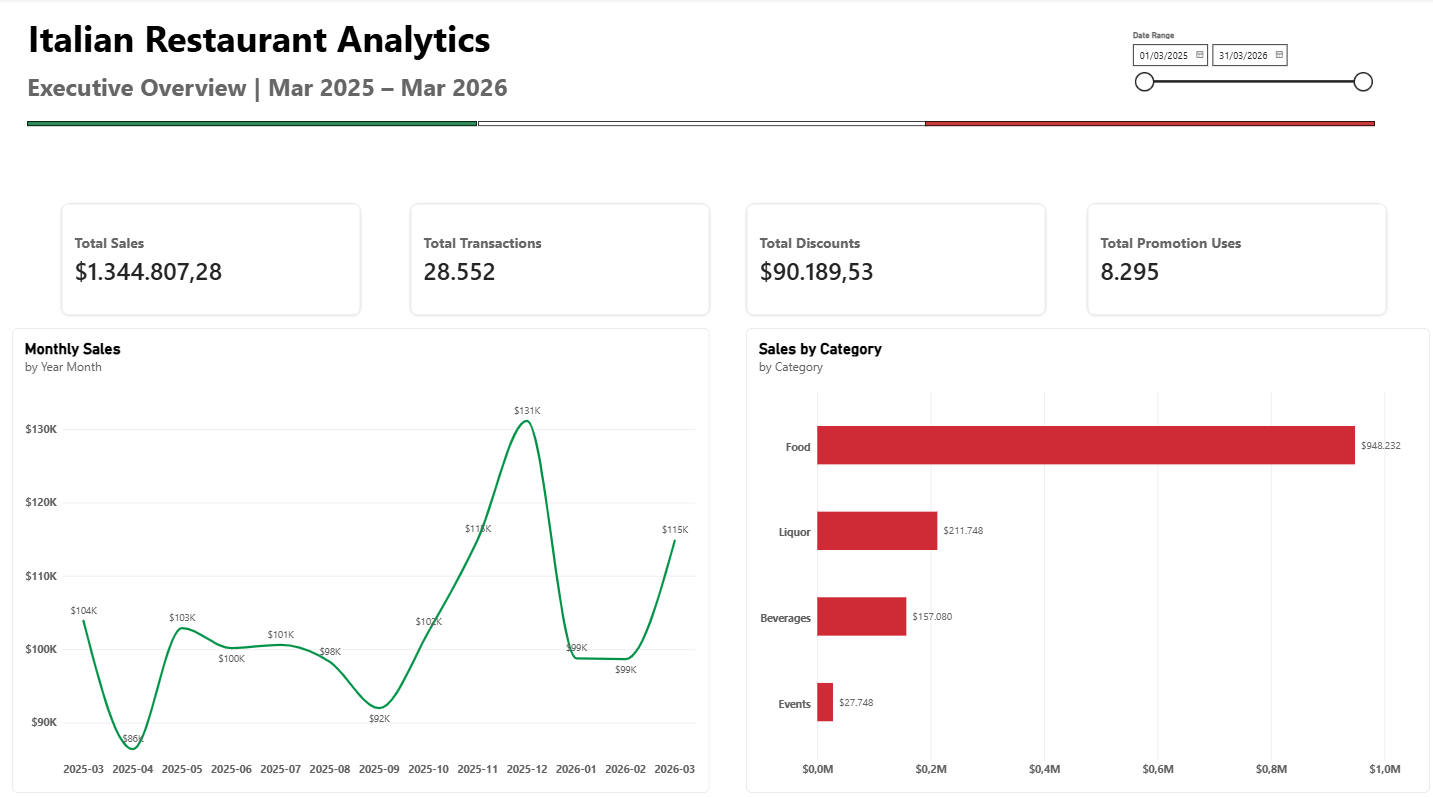

This screenshot's page, from the dashboard's own definition file:
{"tool":"powerbi","page":{"name":"Overview","canvas":[1920,1080],"ordinal":0},"visuals":[{"type":"cardVisual","fields":{"Data":["Calendar.Total Sales"]},"box":[83.6,273.1,400,150],"z":0},{"type":"cardVisual","fields":{"Data":["Calendar.Total Discounts"]},"box":[996.7,273.1,400,150],"z":1000},{"type":"cardVisual","fields":{"Data":["Calendar.Total Transactions"]},"box":[549.5,273.1,400,150],"z":2000},{"type":"cardVisual","fields":{"Data":["Calendar.Total Promotion Uses"]},"box":[1452.4,273.1,400,150],"z":3000},{"type":"lineChart","fields":{"Y":["Calendar.Total Sales"],"Category":["Calendar.Year Month"]},"box":[18.8,440.3,930,620],"z":4000},{"type":"clusteredBarChart","fields":{"Y":["Calendar.Total Sales"],"Category":["Sales.Category"]},"box":[996.7,440.3,912,620],"z":5000},{"type":"slicer","fields":{"Values":["Calendar.Date"]},"box":[1505.7,42.9,331.1,87],"z":6000},{"type":"textbox","box":[40,20,827.7,150.2],"z":7000},{"type":"textbox","box":[39.3,95.6,650.2,68.3],"z":8000},{"type":"shape","box":[39.3,163.8,600,6.8],"z":9000},{"type":"shape","box":[640,163.8,600,6.8],"z":10000},{"type":"shape","box":[1235.6,163.8,600,6.8],"z":11000}]}

Visuals, with their boxes in screenshot pixels (x1, y1, x2, y2), scaled from the page's 1920x1080 canvas onto the 1433x797 screenshot:
cardVisual - Calendar.Total Sales: x1=62, y1=202, x2=361, y2=312
cardVisual - Calendar.Total Discounts: x1=744, y1=202, x2=1042, y2=312
cardVisual - Calendar.Total Transactions: x1=410, y1=202, x2=709, y2=312
cardVisual - Calendar.Total Promotion Uses: x1=1084, y1=202, x2=1383, y2=312
lineChart - Calendar.Total Sales x Calendar.Year Month: x1=14, y1=325, x2=708, y2=782
clusteredBarChart - Calendar.Total Sales x Sales.Category: x1=744, y1=325, x2=1425, y2=782
slicer - Calendar.Date: x1=1124, y1=32, x2=1371, y2=96
textbox: x1=30, y1=15, x2=648, y2=126
textbox: x1=29, y1=71, x2=515, y2=121
shape: x1=29, y1=121, x2=477, y2=126
shape: x1=478, y1=121, x2=925, y2=126
shape: x1=922, y1=121, x2=1370, y2=126
